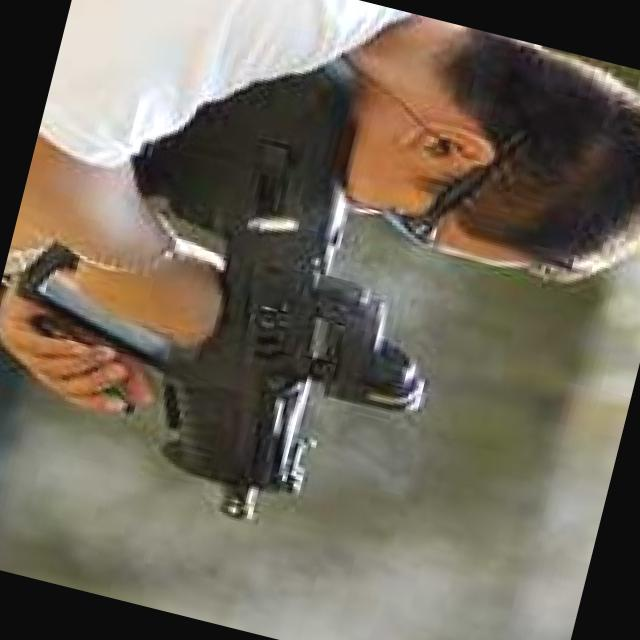long weapon: (5, 180, 444, 590)
